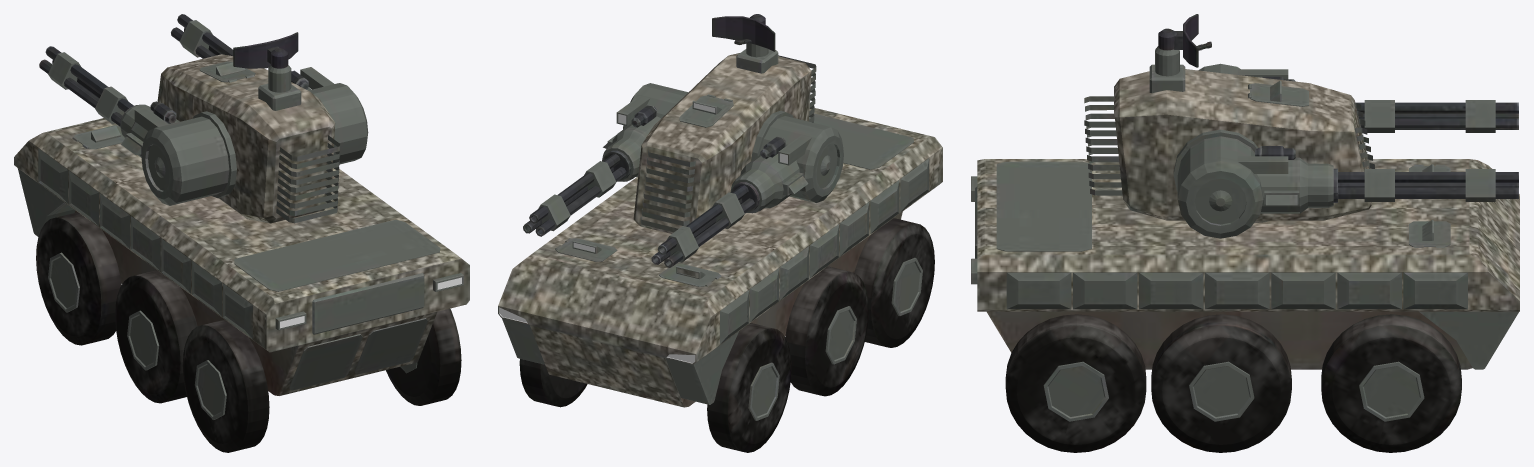
File: avs_8.glb
3 views of the same model, side by side, from view 1: azimuth 30°, elevation 25°; view 2: azimuth 150°, elevation 25°; view 3: azimuth 270°, elevation 25° (orthographic). The views are drawn at different scales.
Parts seen in each view (by area): view 1: Sphere, Sphere.006, Sphere.004, wheel.006, wheel.003, wheel.004, wheel.002, Gun barrel 2, radar, gun barrel 1; view 2: Sphere, Sphere.006, Sphere.004, wheel.004, wheel.003, wheel.006, gun barrel 1, Gun barrel 2, wheel, radar; view 3: Sphere, Sphere.006, wheel.002, wheel.001, wheel, Sphere.004, gun barrel 1, Gun barrel 2, radar.
Boxes of the visible parts, x1=… form: Sphere: x1=14, y1=106, x2=469, y2=395; Sphere.006: x1=157, y1=54, x2=340, y2=223; Sphere.004: x1=120, y1=67, x2=368, y2=205; wheel.006: x1=182, y1=320, x2=269, y2=452; wheel.003: x1=36, y1=212, x2=121, y2=345; wheel.004: x1=115, y1=270, x2=197, y2=403; wheel.002: x1=386, y1=308, x2=461, y2=405; Gun barrel 2: x1=39, y1=46, x2=133, y2=126; radar: x1=233, y1=32, x2=298, y2=68; gun barrel 1: x1=171, y1=14, x2=233, y2=58; Sphere: x1=498, y1=108, x2=942, y2=407; Sphere.006: x1=633, y1=43, x2=816, y2=233; Sphere.004: x1=602, y1=83, x2=843, y2=213; wheel.004: x1=785, y1=266, x2=868, y2=396; wheel.003: x1=707, y1=323, x2=791, y2=452; wheel.006: x1=854, y1=218, x2=934, y2=347; gun barrel 1: x1=523, y1=150, x2=631, y2=236; Gun barrel 2: x1=651, y1=182, x2=759, y2=267; wheel: x1=519, y1=359, x2=587, y2=407; radar: x1=712, y1=14, x2=775, y2=51; Sphere: x1=971, y1=159, x2=1519, y2=369; Sphere.006: x1=1084, y1=46, x2=1374, y2=223; wheel.002: x1=1005, y1=314, x2=1146, y2=452; wheel.001: x1=1151, y1=314, x2=1291, y2=452; wheel: x1=1321, y1=314, x2=1461, y2=452; Sphere.004: x1=1173, y1=63, x2=1333, y2=238; gun barrel 1: x1=1333, y1=168, x2=1518, y2=202; Gun barrel 2: x1=1355, y1=100, x2=1518, y2=132; radar: x1=1158, y1=14, x2=1211, y2=67.
Bounding box in the file's own units: 0.4218 × 0.618 × 0.8312.
3 materials, 1 textured.
